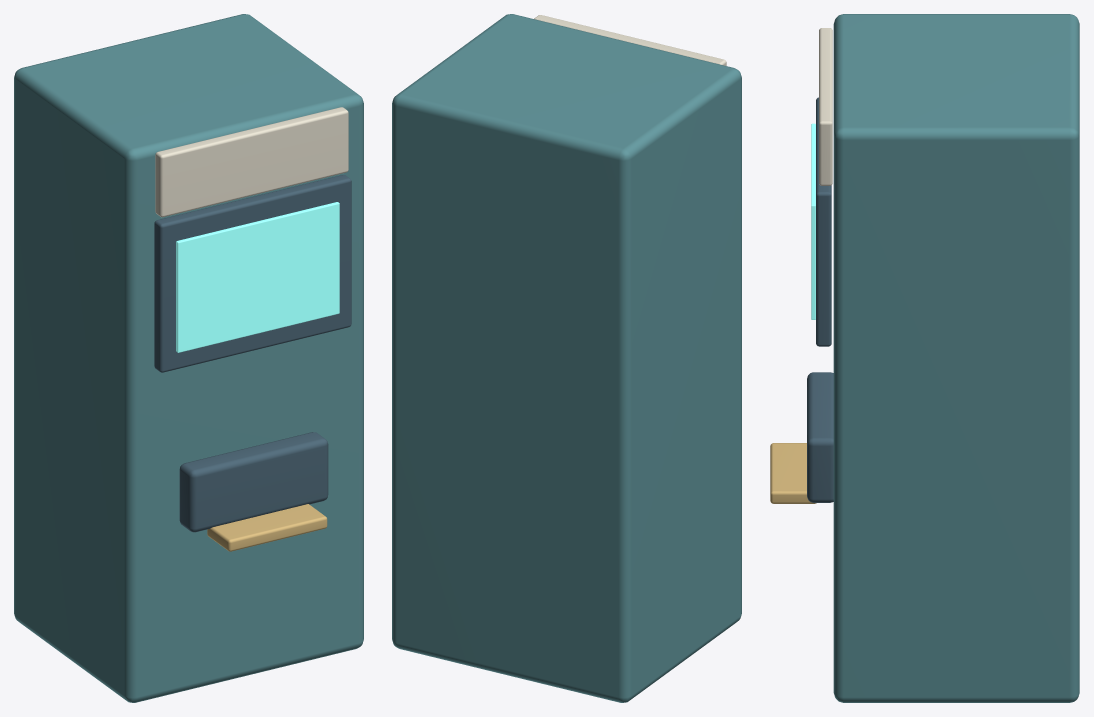
Rendered from alpha_terminal.glb.
3 views of the same model, side by side, from view 1: azimuth 30°, elevation 25°; view 2: azimuth 150°, elevation 25°; view 3: azimuth 270°, elevation 25° (orthographic). The views are drawn at different scales.
Parts seen in each view (by area): view 1: Alpha_teal, Alpha_navy, Alpha_screen, Alpha_cream, Alpha_gold; view 2: Alpha_teal, Alpha_cream; view 3: Alpha_teal, Alpha_navy, Alpha_gold, Alpha_cream, Alpha_screen.
Part boxes in pixels (x1,y1,x2,y2): Alpha_teal: (14, 14, 363, 702); Alpha_navy: (154, 175, 351, 532); Alpha_screen: (176, 202, 339, 352); Alpha_cream: (155, 107, 348, 217); Alpha_gold: (207, 504, 327, 551); Alpha_teal: (392, 14, 741, 702); Alpha_cream: (534, 15, 726, 65); Alpha_teal: (833, 14, 1079, 702); Alpha_navy: (807, 97, 833, 502); Alpha_gold: (770, 443, 816, 503); Alpha_cream: (819, 28, 832, 185); Alpha_screen: (811, 123, 815, 319).
Bounding box in the file's own units: 0.72 × 1.6 × 0.78.
